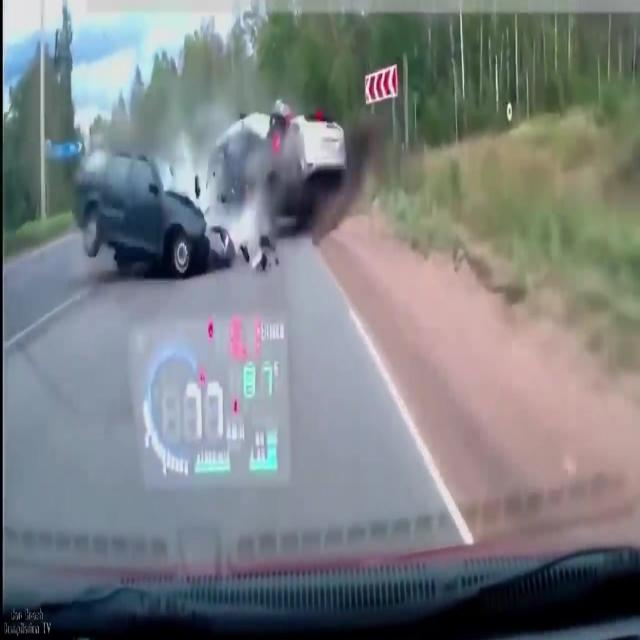accident: (64, 73, 352, 280)
